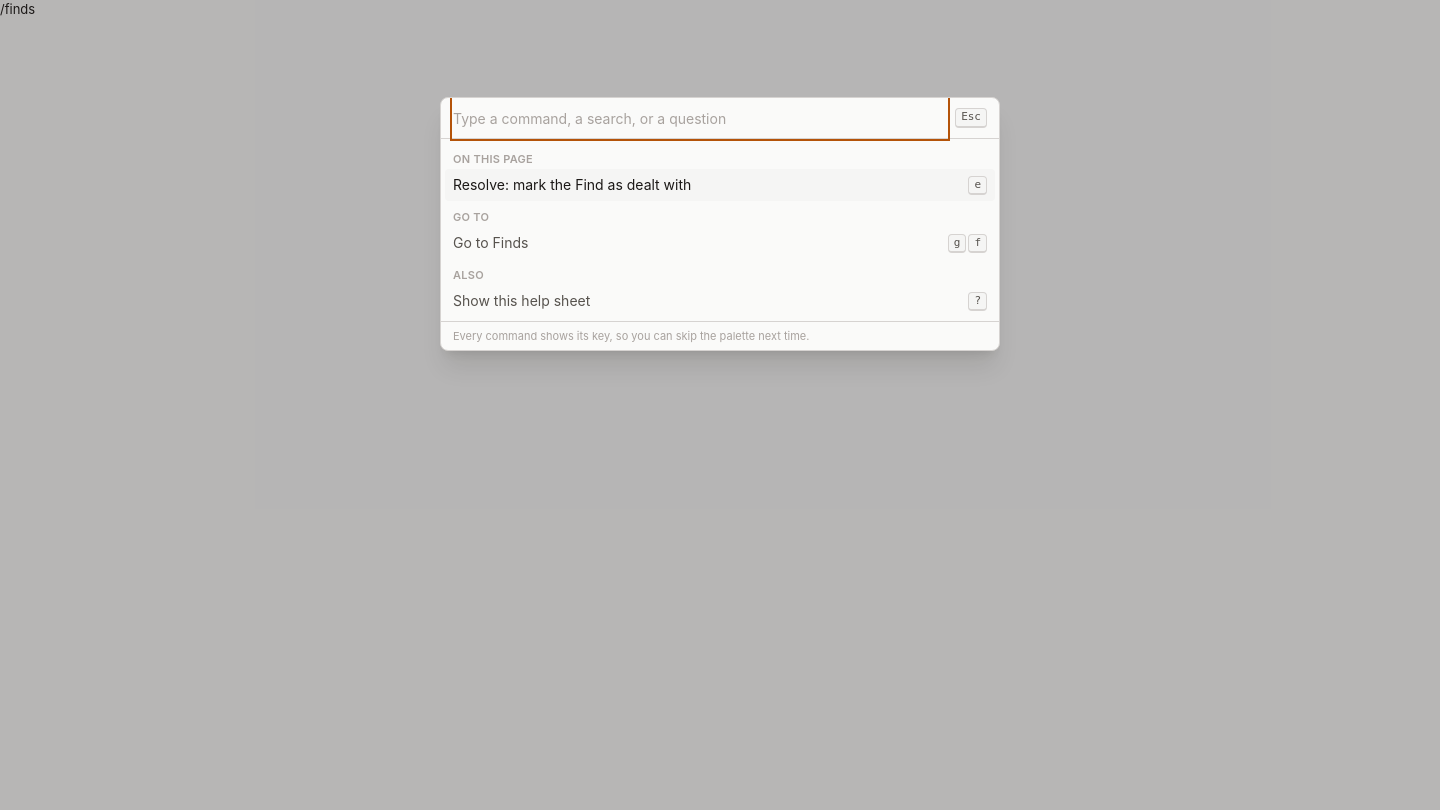
it: the command palette › the search row navigates to the Inbox with the text as the query
Type "from:bob" into the dropdown labelled "command" at [700, 118], box [453, 98, 947, 138]
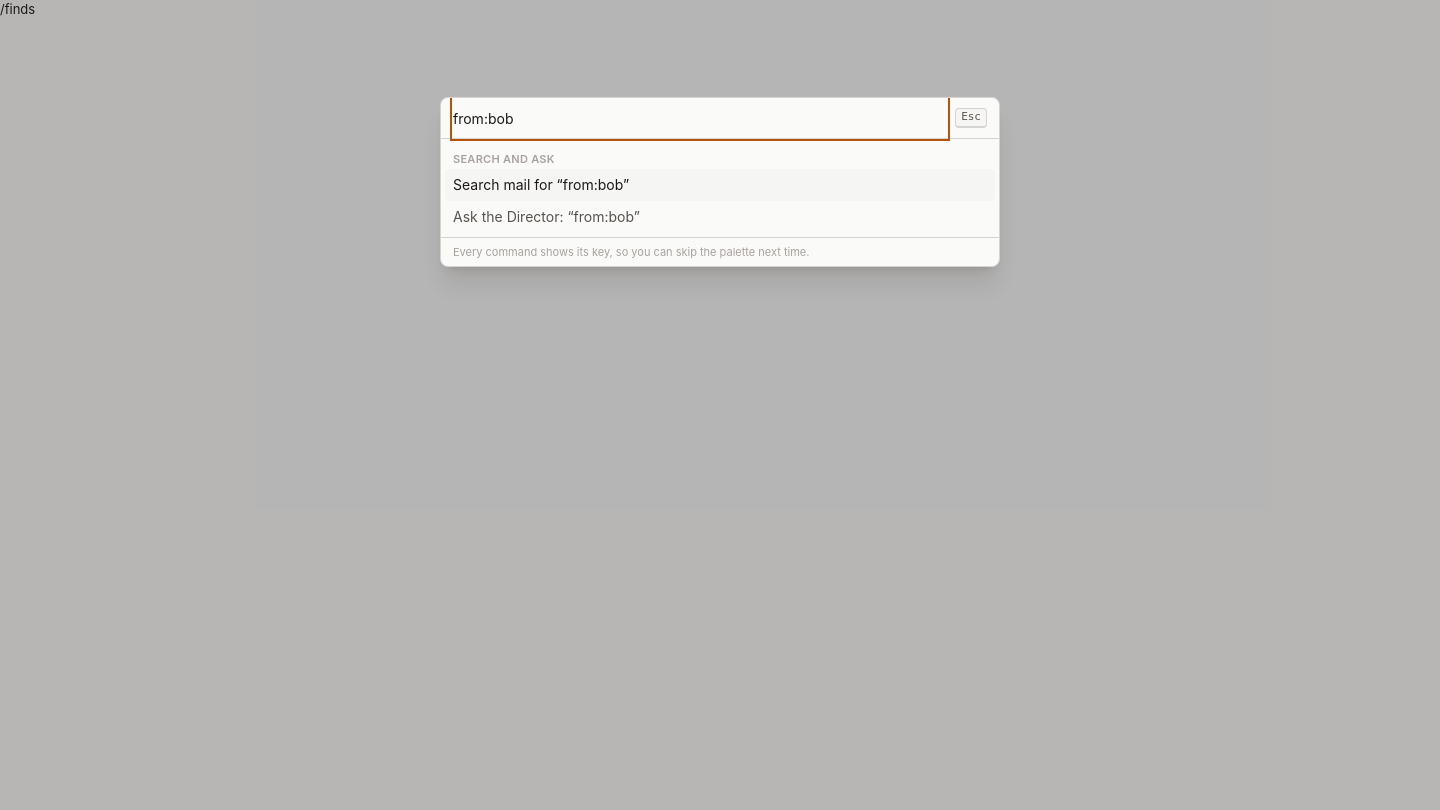
Press Enter in the dropdown named "command", box [453, 98, 947, 138]
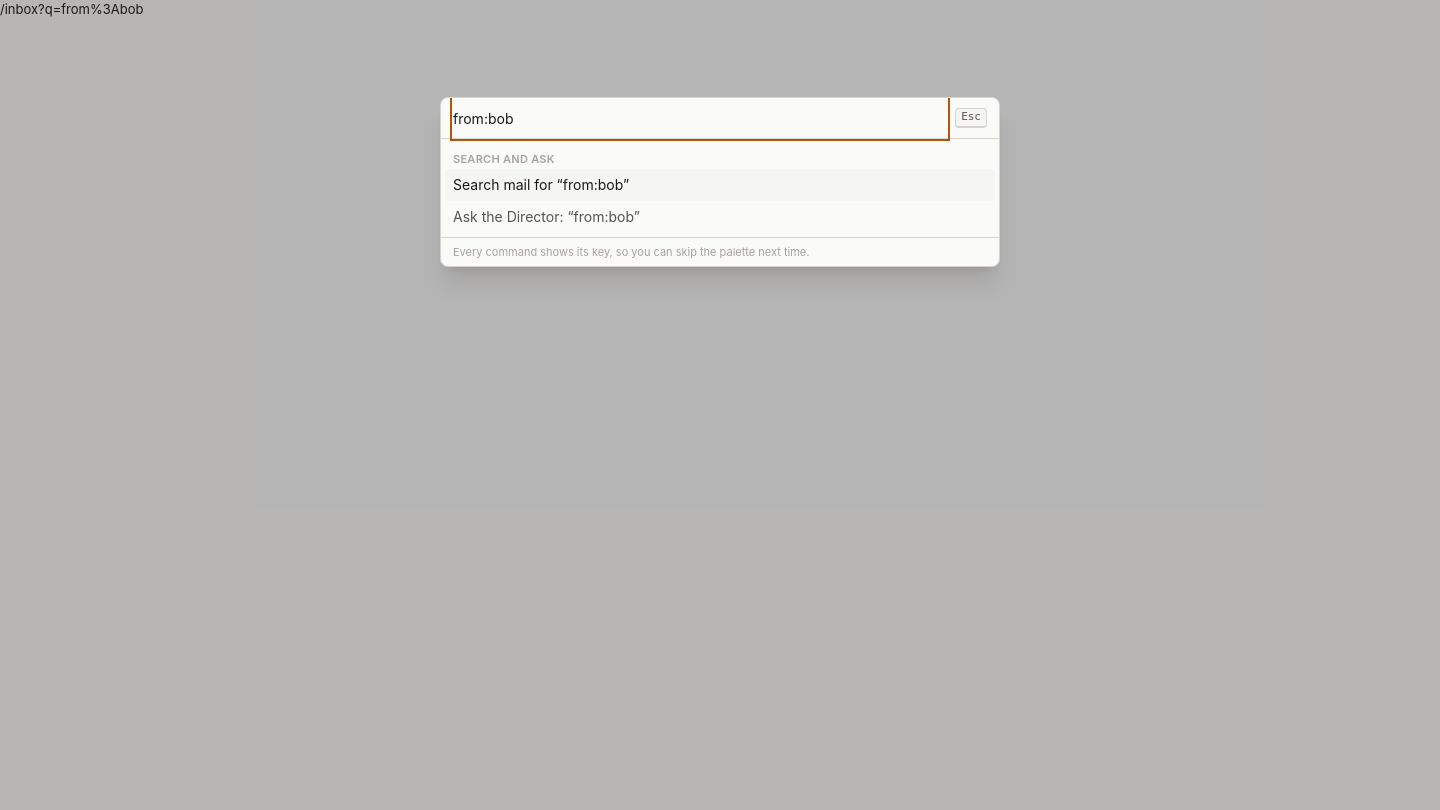
Expected: the text with test id "where" reads "/inbox?q=from%3Abob", [0, 1, 143, 17]
